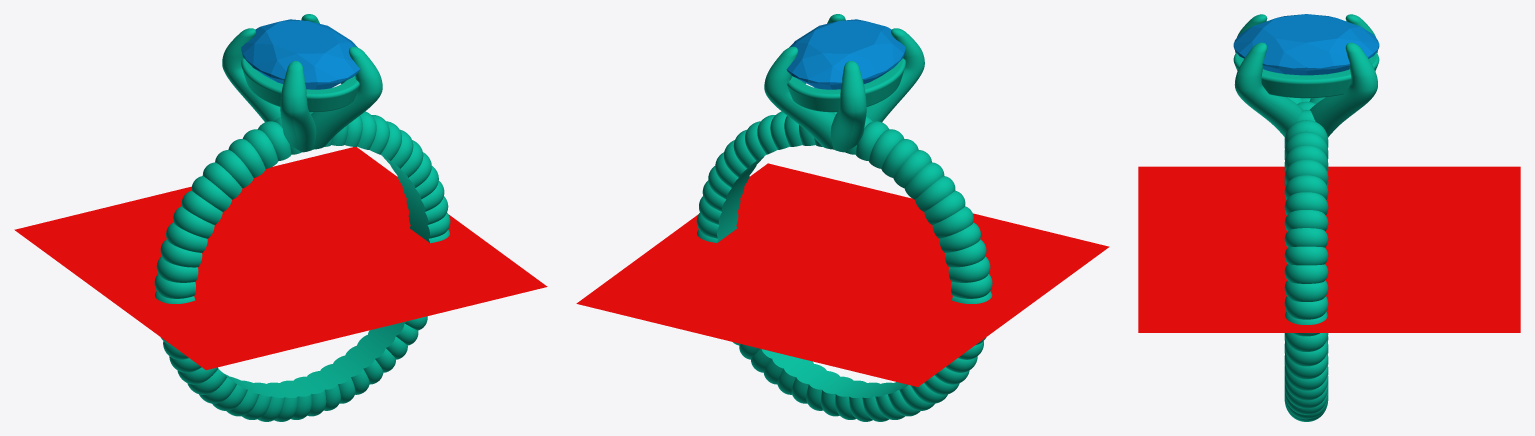
3 renders of one model, left to right at view 1: azimuth 30°, elevation 25°; view 2: azimuth 150°, elevation 25°; view 3: azimuth 270°, elevation 25°, orthographic.
Visible parts, largest first — view 1: RING.JTC.SRO25(front).3dm, Diamond_Oval; view 2: RING.JTC.SRO25(front).3dm, Diamond_Oval; view 3: RING.JTC.SRO25(front).3dm, Diamond_Oval.
Boxes of the visible parts, x1=… form: RING.JTC.SRO25(front).3dm: x1=14, y1=14, x2=547, y2=421; Diamond_Oval: x1=241, y1=19, x2=360, y2=89; RING.JTC.SRO25(front).3dm: x1=576, y1=14, x2=1109, y2=421; Diamond_Oval: x1=786, y1=19, x2=905, y2=89; RING.JTC.SRO25(front).3dm: x1=1138, y1=14, x2=1520, y2=421; Diamond_Oval: x1=1233, y1=14, x2=1379, y2=75.
Size of what is drawn, in the model's own units: 2.84 by 3.01 by 2.76.
